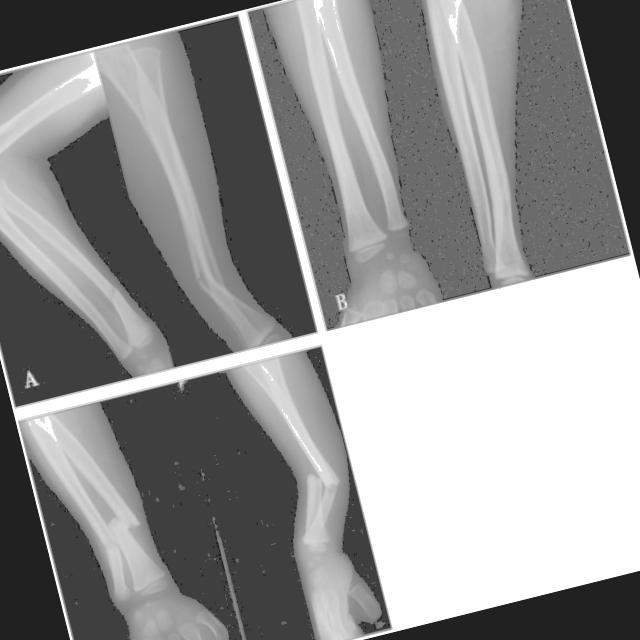GreenStick Fracture: (92, 506, 145, 544), (434, 0, 478, 44), (298, 463, 346, 501), (96, 282, 125, 306)
